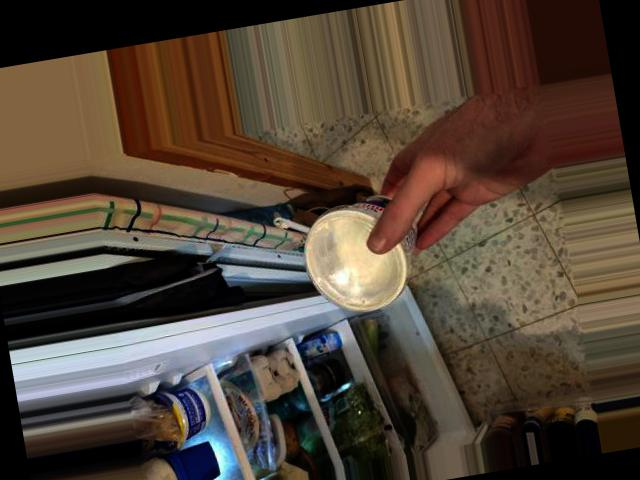cotage: (283, 183, 414, 312)
